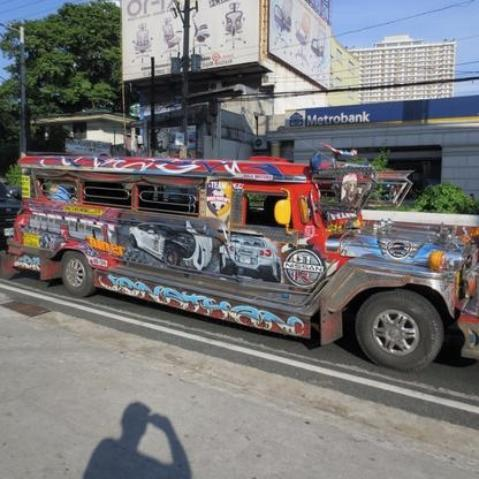jeepney: (6, 145, 479, 370)
